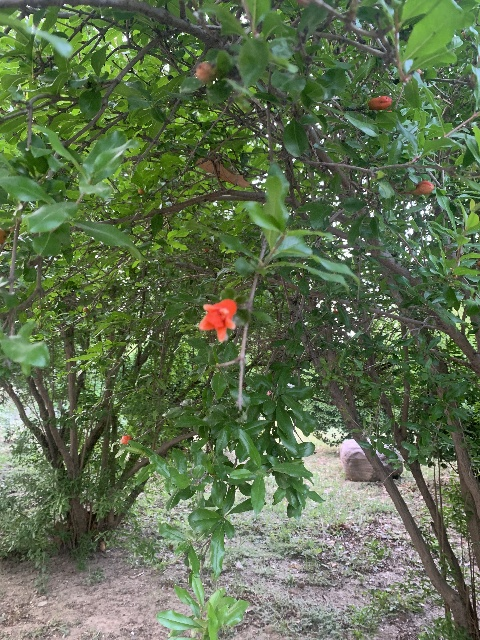bud: (367, 95, 392, 110), (413, 180, 433, 194), (137, 188, 145, 194)
flower: (198, 298, 237, 341), (120, 433, 132, 444)
